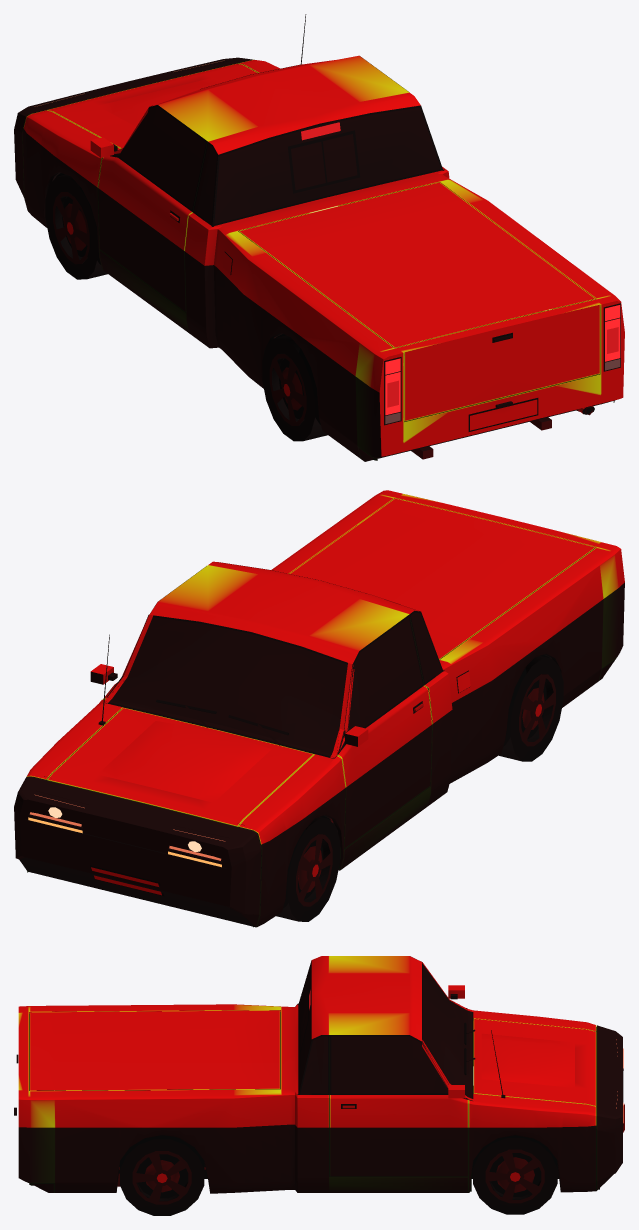
The model's file is body.glb.
3 views of the same model, one above another, from view 1: azimuth 30°, elevation 25°; view 2: azimuth 150°, elevation 25°; view 3: azimuth 270°, elevation 25° (orthographic). The views are drawn at different scales.
Parts seen in each view (by area): view 1: body, bed_cover, tailgate, glass_backlight, door_l, fender_fl, glass_door_l, wheel_rl_mesh, wheel_fl_mesh, hood, glass_slider, bumper_f (+4 smaller); view 2: body, bed_cover, glass_windshield, bumper_f, hood, door_l, hood_dome, fender_fl, glass_door_l, wheel_rl_mesh, wheel_fl_mesh, underbody (+6 smaller); view 3: body, bed_cover, door_r, fender_fr, glass_door_r, wheel_rr_mesh, wheel_fr_mesh, hood, hood_dome, glass_windshield, bumper_f, glass_quarter_r (+3 smaller).
Boxes of the visible parts, box(x1,y1,x2,y2) form: body: box(99, 55, 624, 458); bed_cover: box(239, 182, 595, 347); tailgate: box(404, 304, 600, 421); glass_backlight: box(212, 107, 440, 224); door_l: box(98, 156, 192, 312); fender_fl: box(22, 110, 120, 269); glass_door_l: box(114, 105, 207, 211); wheel_rl_mesh: box(262, 335, 327, 441); wheel_fl_mesh: box(45, 174, 107, 279); hood: box(47, 63, 257, 148); glass_slider: box(288, 130, 360, 193); bumper_f: box(14, 57, 254, 196); body: box(149, 490, 624, 869); bed_cover: box(290, 498, 595, 659); glass_windshield: box(108, 617, 352, 757); bumper_f: box(14, 776, 261, 927); hood: box(47, 707, 313, 826); door_l: box(337, 686, 432, 848); hood_dome: box(97, 721, 271, 802); fender_fl: box(238, 754, 345, 926); glass_door_l: box(337, 617, 422, 755); wheel_rl_mesh: box(499, 656, 563, 761); wheel_fl_mesh: box(260, 817, 340, 921); underbody: box(19, 654, 601, 927); body: box(18, 956, 468, 1193); bed_cover: box(29, 1010, 280, 1090); door_r: box(330, 1095, 468, 1176); fender_fr: box(468, 1093, 596, 1192); glass_door_r: box(331, 1036, 448, 1093); wheel_rr_mesh: box(120, 1135, 204, 1215); wheel_fr_mesh: box(473, 1135, 557, 1214); hood: box(473, 1018, 596, 1106); hood_dome: box(481, 1033, 574, 1087); glass_windshield: box(422, 964, 472, 1098); bumper_f: box(596, 1025, 622, 1190); glass_quarter_r: box(300, 1036, 329, 1094).
Bounding box in the file's own units: 2.07 × 1.62 × 5.11.
